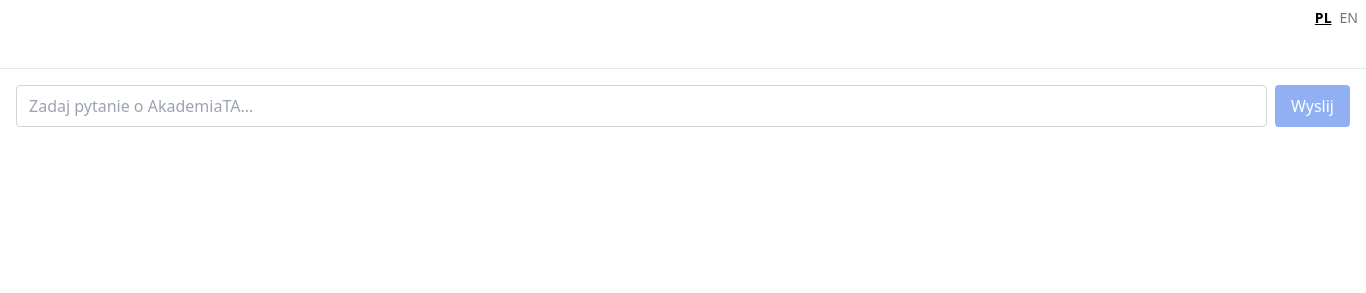
Test case: ChatWindow › renders the streamed answer with citations and confidence
Type "Kiedy jest rekrutacja?" into the field with placeholder "Zadaj pytanie o AkademiaTA..." at (641, 106), box [16,85,1267,127]
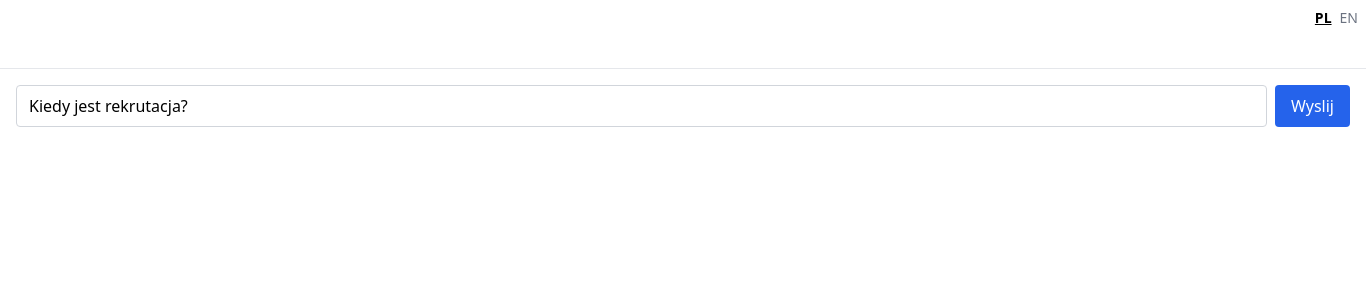
Click the button "Wyslij" at (1312, 106), box [1275,85,1350,127]
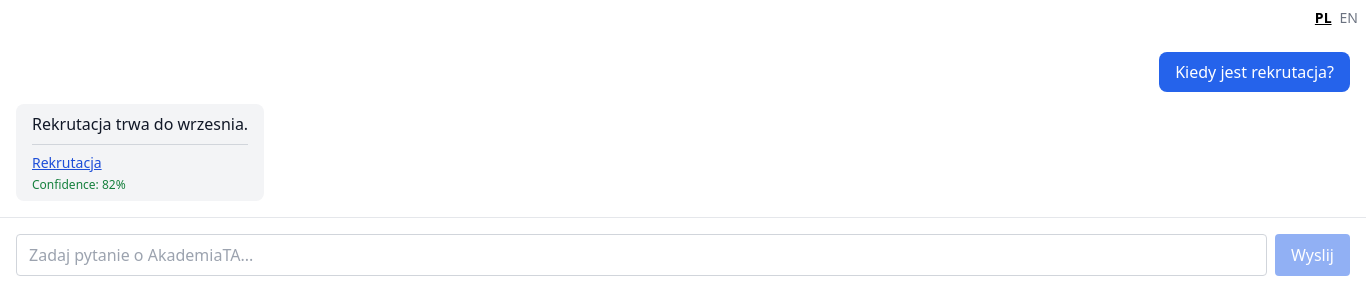
Expected: the text "Kiedy jest rekrutacja?" is shown, [1175,60,1334,84]
Expected: the text "Rekrutacja trwa do wrzesnia." is shown, [32,112,248,136]
Expected: the text "Confidence: 82%" is shown, [32,176,126,193]
